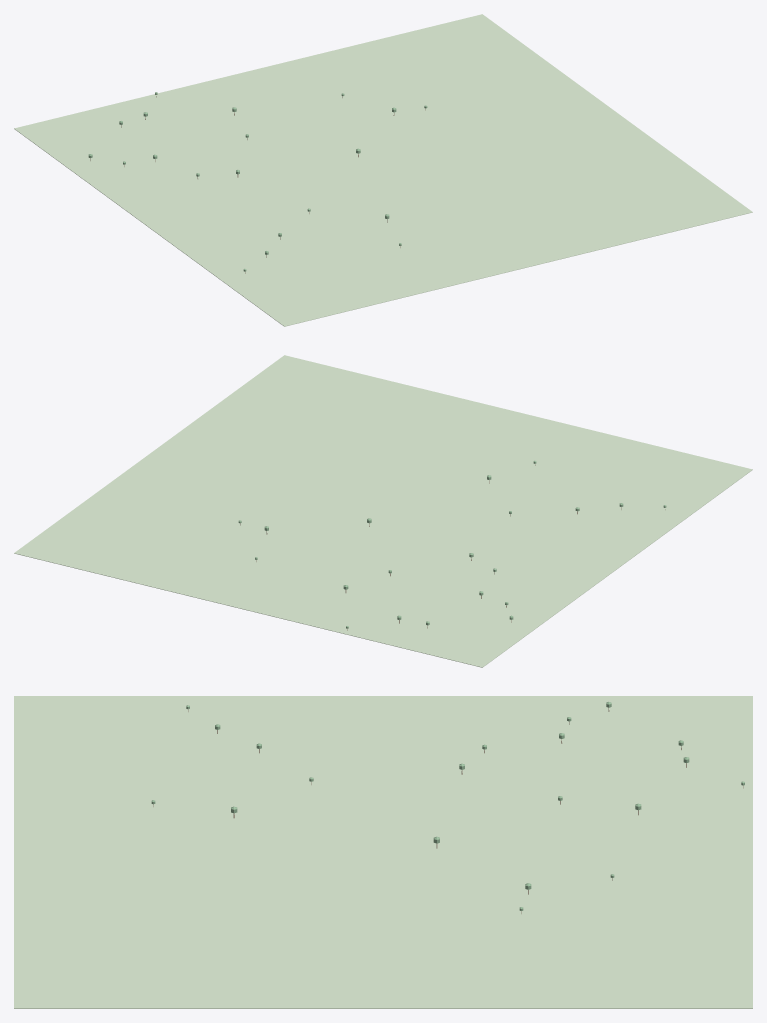
The model's file is chunk_7_3_low.glb.
3 views of the same model, one above another, from view 1: azimuth 30°, elevation 25°; view 2: azimuth 150°, elevation 25°; view 3: azimuth 270°, elevation 25° (orthographic). The views are drawn at different scales.
Visible parts, largest first — view 1: city_grass; view 2: city_grass; view 3: city_grass, city_foliage_dark.
Part boxes in pixels (bbox=[...]): city_grass: bbox=[14, 14, 752, 326]; city_grass: bbox=[14, 355, 752, 667]; city_grass: bbox=[14, 696, 752, 1008]; city_foliage_dark: bbox=[151, 702, 744, 910].
Bounding box in the file's own units: 512 × 9.5 × 512.
